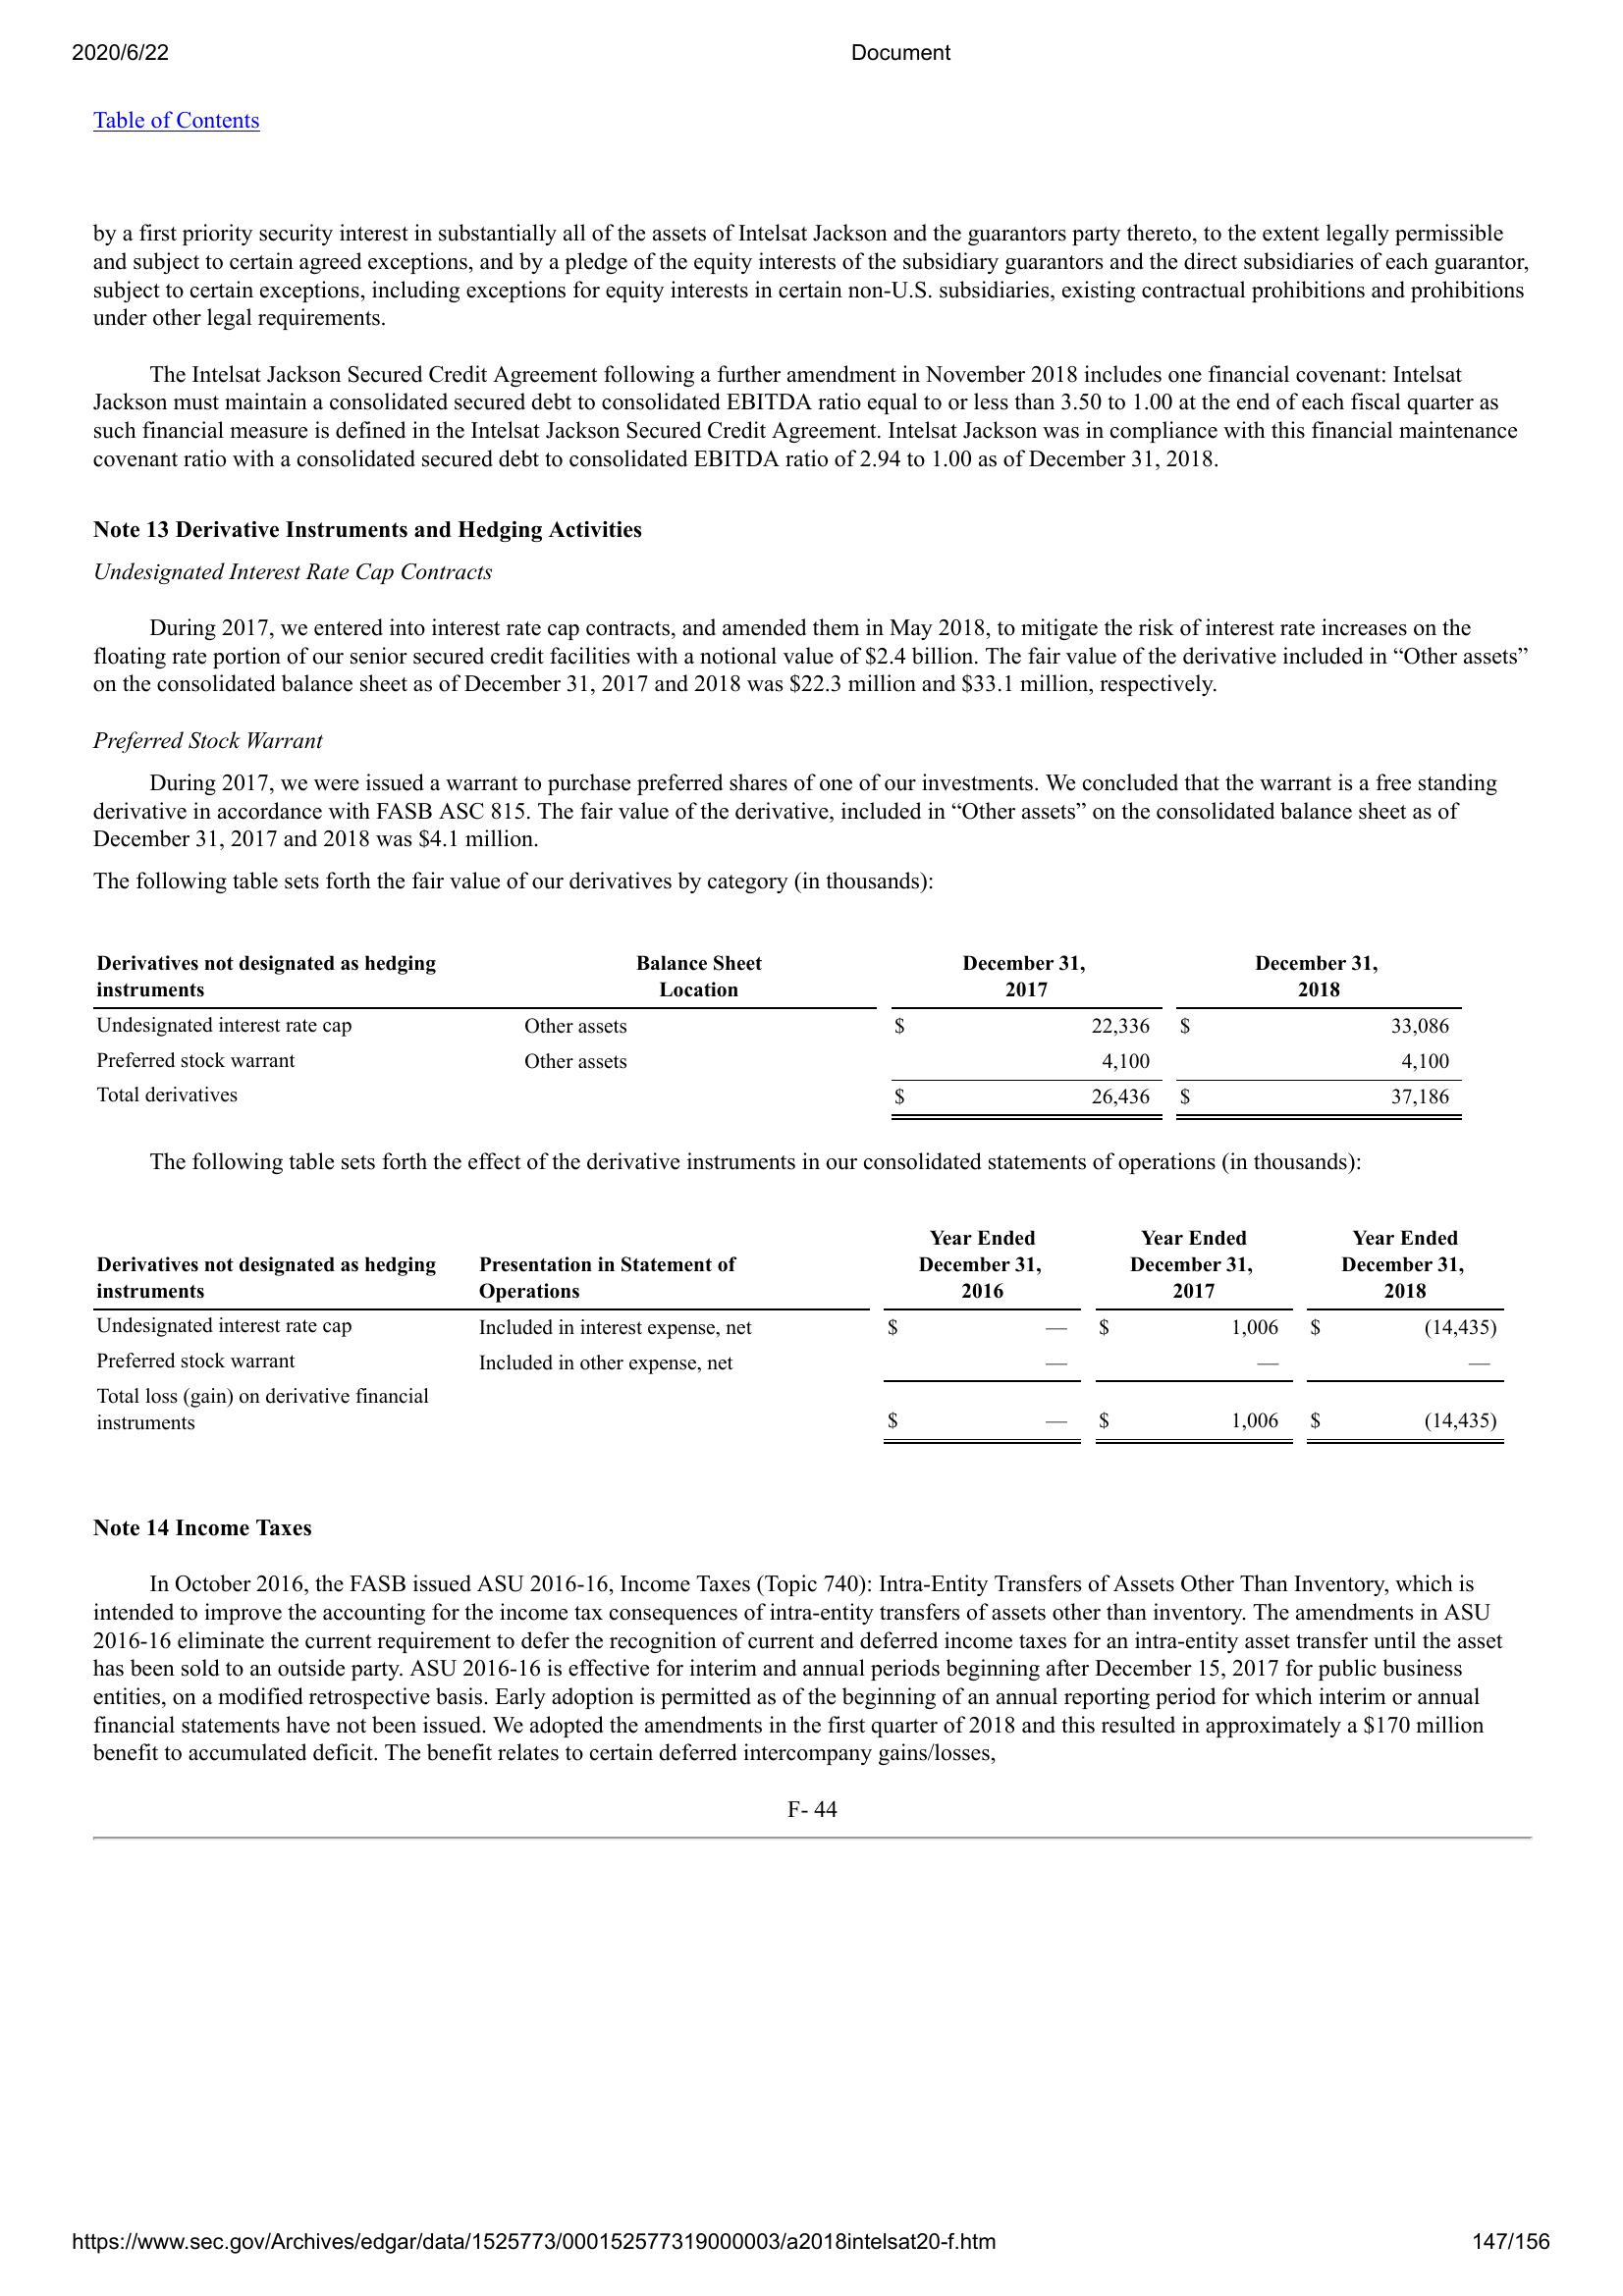table: (88, 1231, 1512, 1452), (91, 946, 1474, 1125)
